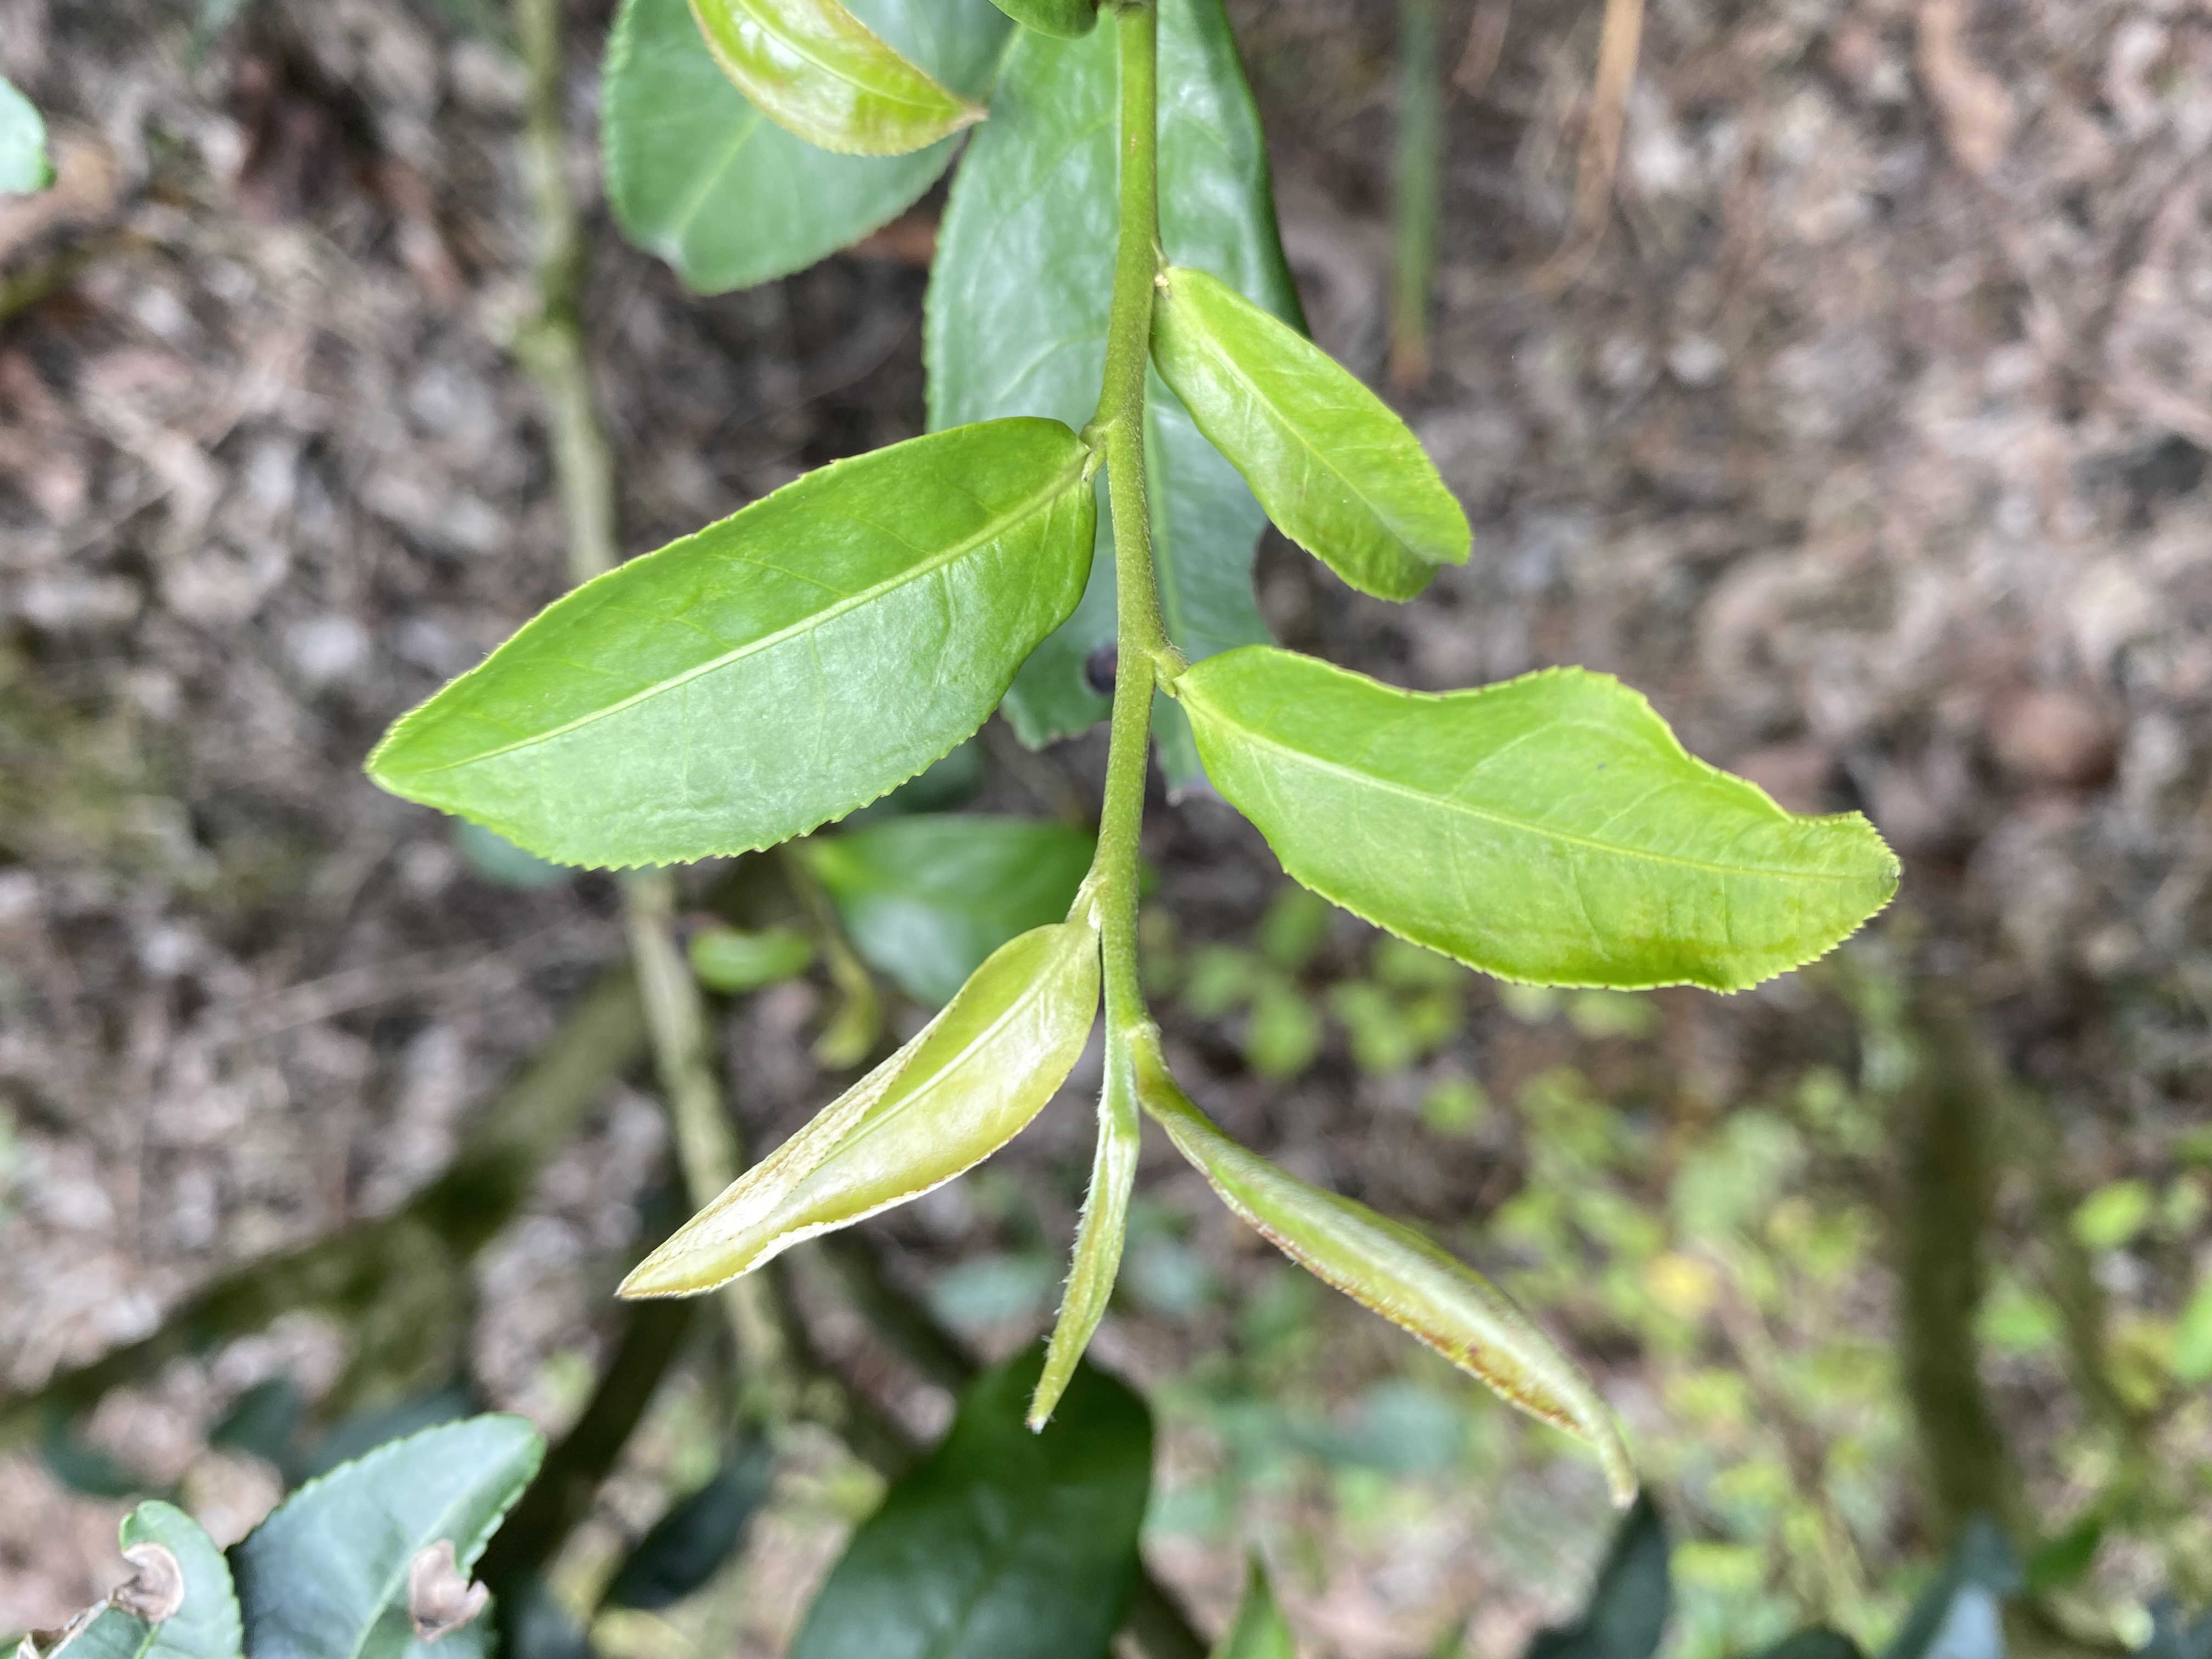healthy: (359, 416, 1101, 875), (1186, 640, 1905, 999), (1150, 272, 1474, 605)
tanju_high: (230, 1412, 543, 1652), (40, 1495, 249, 1650)
tanju_low: (610, 918, 1101, 1309), (1179, 1124, 1639, 1507), (688, 2, 989, 162)
